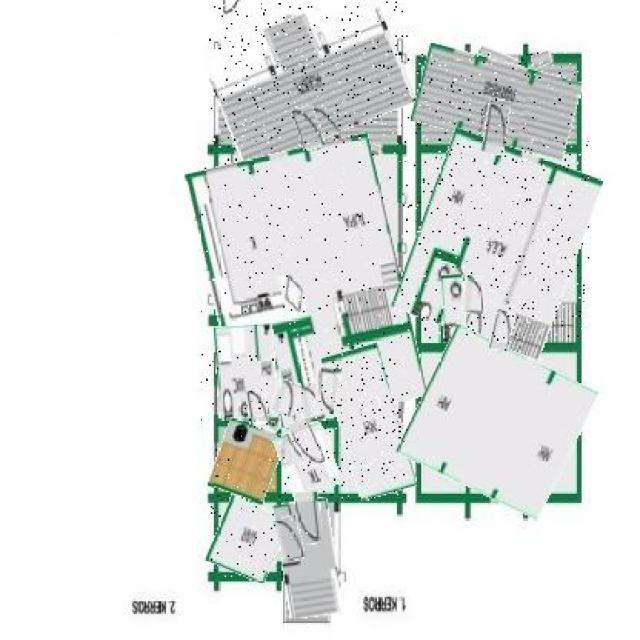door: (292, 419, 322, 466), (296, 492, 322, 545), (485, 100, 509, 155), (295, 104, 323, 150), (317, 366, 341, 414), (276, 517, 302, 560), (272, 380, 298, 417), (492, 311, 514, 351), (463, 275, 485, 314), (249, 390, 268, 428)
window: (477, 51, 520, 69), (396, 395, 404, 463), (233, 140, 264, 157), (351, 140, 380, 154), (532, 52, 552, 68), (443, 55, 465, 68), (491, 492, 503, 508)
zone: (198, 142, 414, 426), (405, 138, 589, 350), (209, 1, 409, 154), (408, 338, 586, 508), (416, 52, 578, 151), (330, 346, 408, 499), (277, 498, 340, 617), (215, 325, 277, 423), (211, 500, 283, 578), (214, 422, 281, 502), (277, 425, 337, 497), (442, 274, 466, 343)
